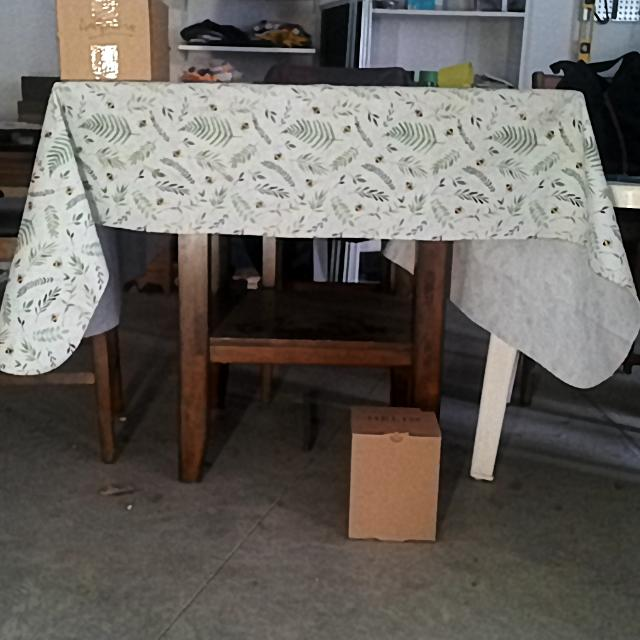box: (350, 432, 439, 542), (58, 0, 153, 80)
